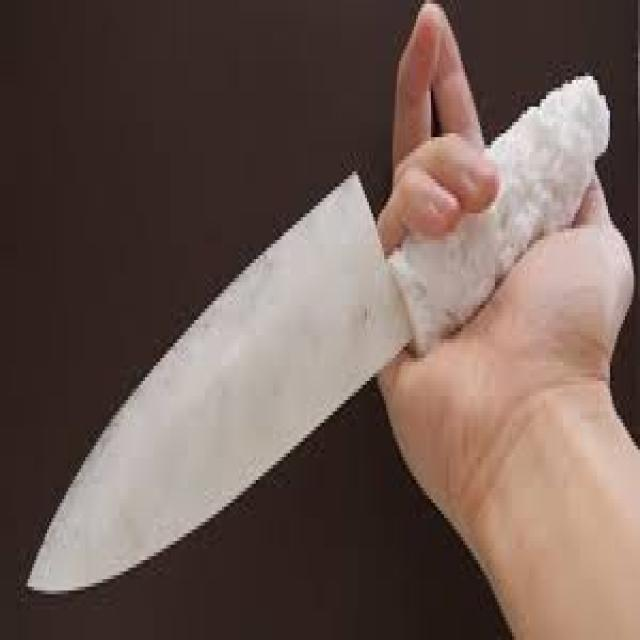knives: (8, 141, 450, 606)
